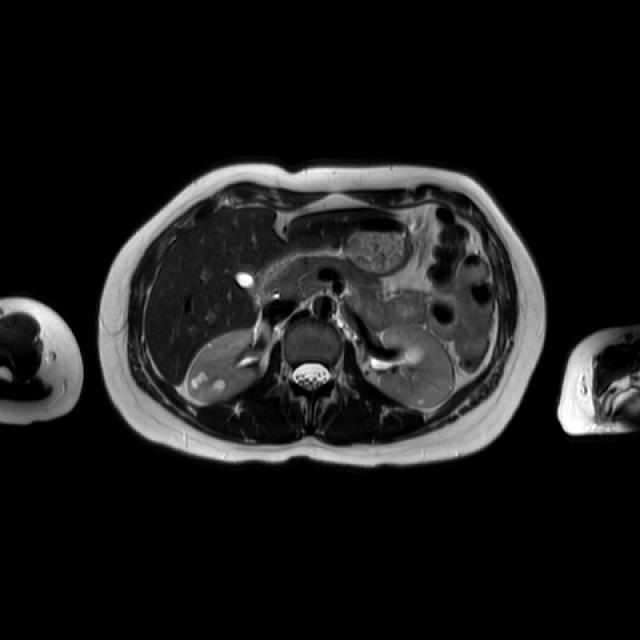sag: (186, 329, 259, 402)
sol: (377, 324, 457, 409)
